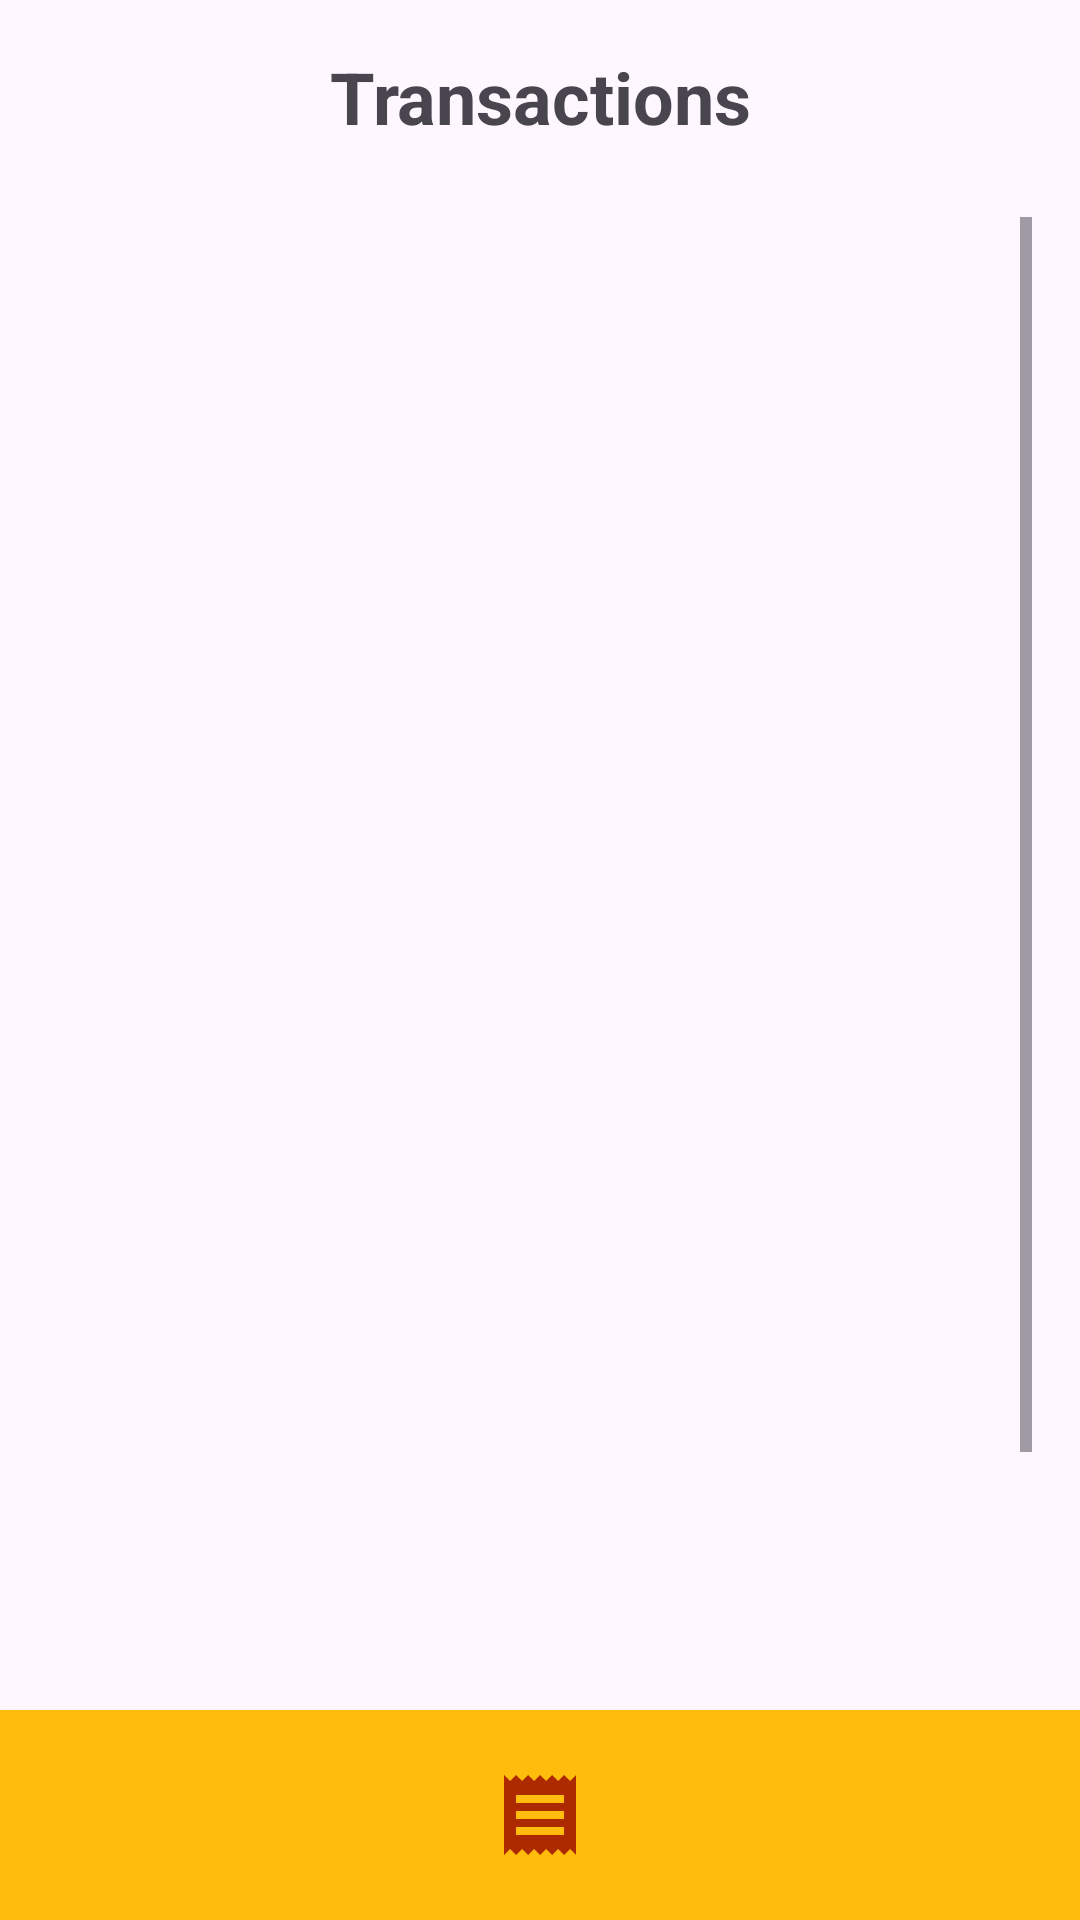

Named icons in this screenshot (1080w x 1920h) and their centers, (x,y):
Transaction Button: (540,1815)
